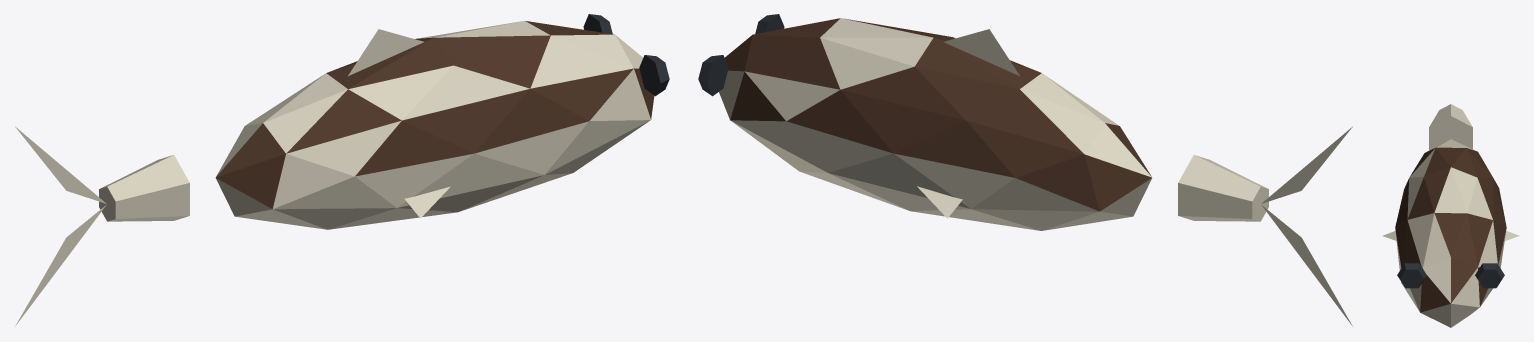
The model's file is cooked_fish.glb.
The picture shows the model from 3 angles, left to right: view 1: azimuth 30°, elevation 25°; view 2: azimuth 150°, elevation 25°; view 3: azimuth 270°, elevation 25°; orthographic projection. The views are drawn at different scales.
Parts seen in each view (by area): view 1: cooked_fish.001; view 2: cooked_fish.001; view 3: cooked_fish.001.
Part boxes in pixels (bbox=[...]): cooked_fish.001: bbox=[15, 14, 669, 326]; cooked_fish.001: bbox=[698, 14, 1352, 326]; cooked_fish.001: bbox=[1382, 104, 1519, 327].
Bounding box in the file's own units: 0.34 × 0.106 × 0.0903.
